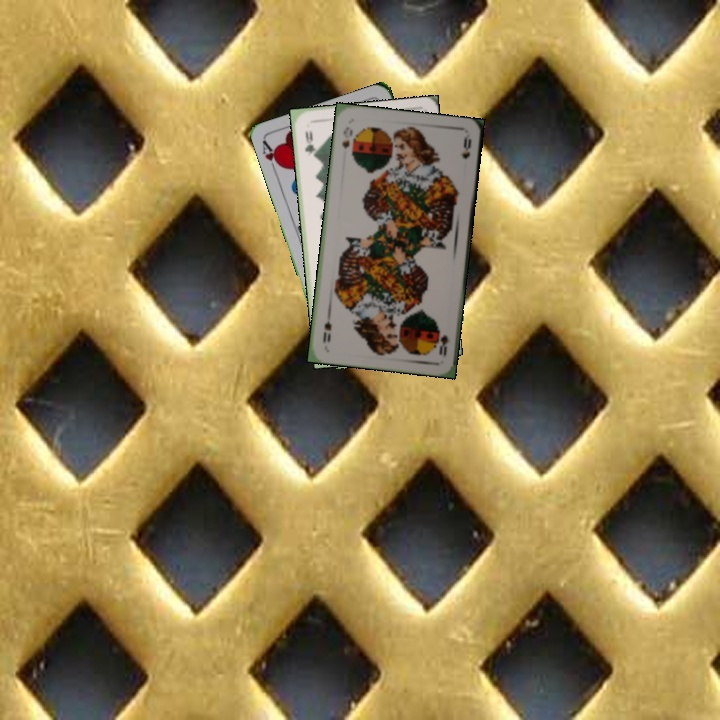G9: (301, 126, 317, 159)
HA: (258, 137, 285, 176)
SO: (434, 324, 452, 360), (338, 122, 355, 151)
